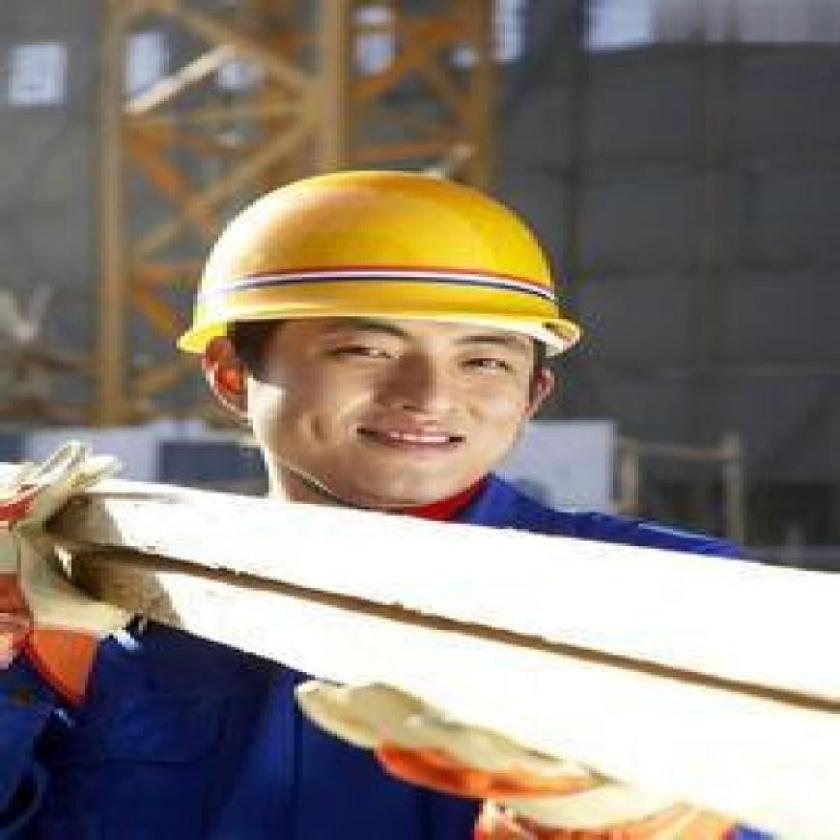Con_casco: (180, 164, 586, 539)
